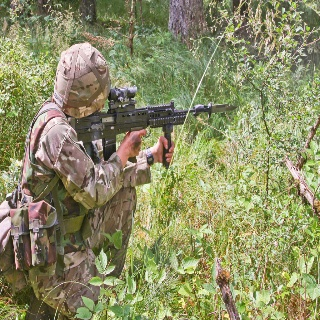rifle: (67, 86, 236, 168)
